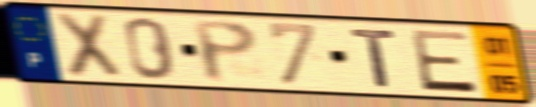0: (122, 15, 177, 82)
7: (265, 20, 320, 88)
E: (407, 28, 481, 96)
P: (189, 18, 262, 86)
T: (347, 27, 400, 90)
X: (51, 10, 126, 82)
